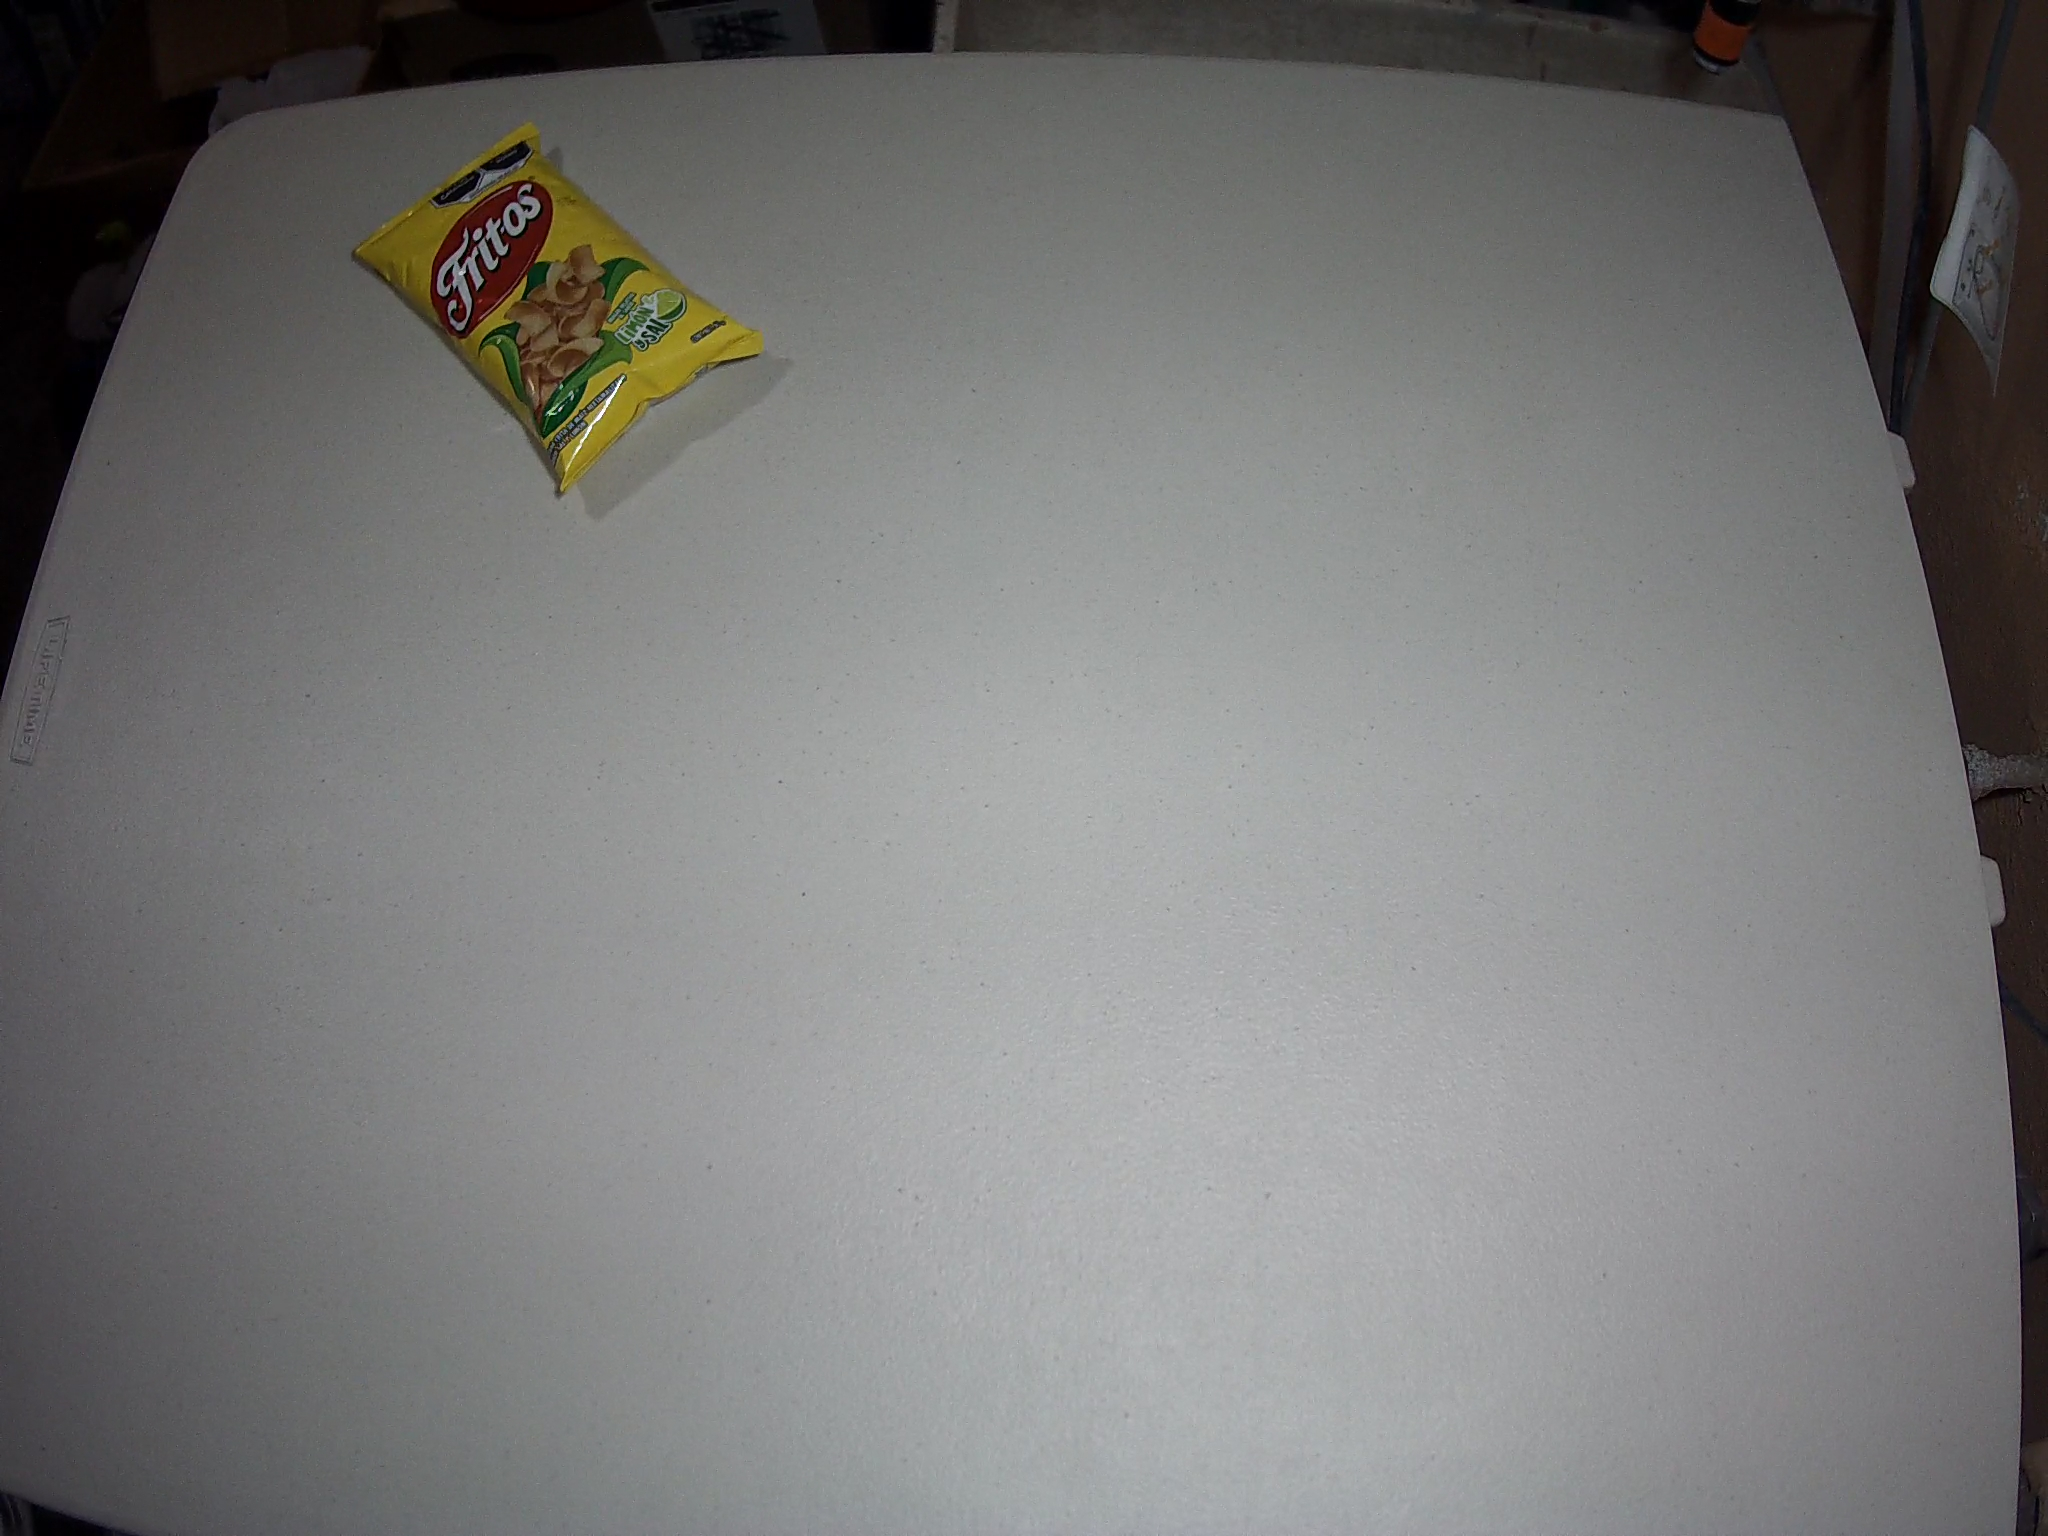FritosSalLimon_65_F: (352, 123, 769, 494)
